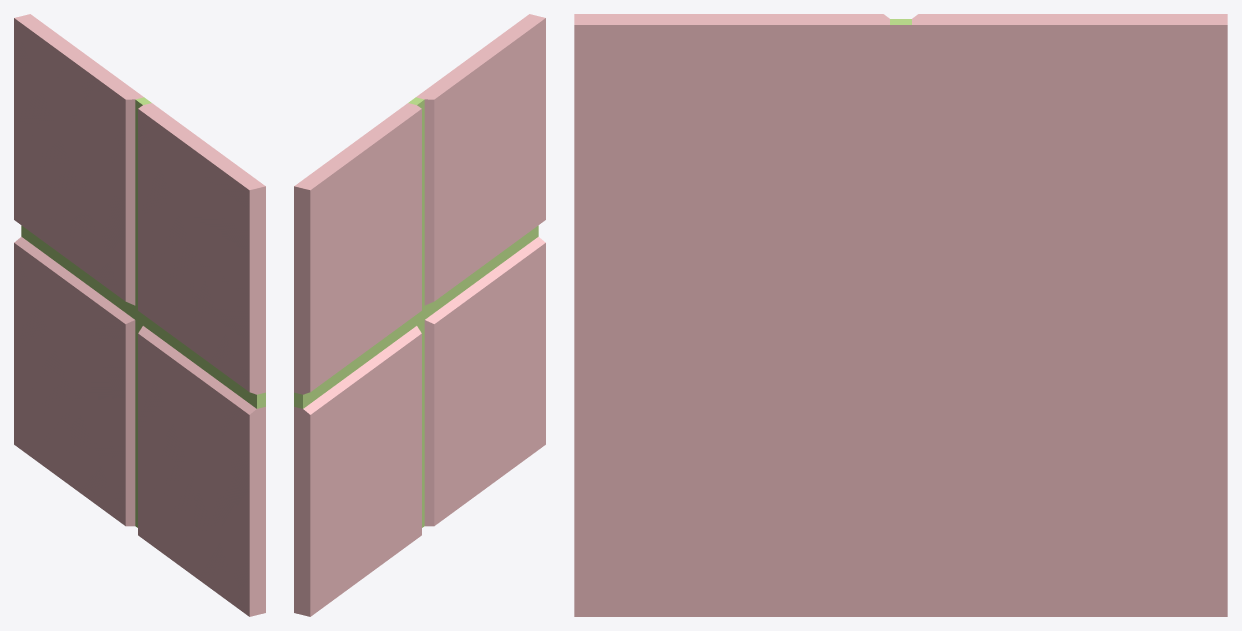
File: Basic Wall.fbx
The picture shows the model from 3 angles, left to right: view 1: azimuth 30°, elevation 25°; view 2: azimuth 150°, elevation 25°; view 3: azimuth 270°, elevation 25°; orthographic projection. The views are drawn at different scales.
Visible parts, largest first — view 1: Cube; view 2: Cube; view 3: Cube.
Part boxes in pixels (x1,y1,x2,y2): Cube: [14, 14, 265, 616]; Cube: [294, 14, 545, 616]; Cube: [574, 14, 1227, 616].
Bounding box in the file's own units: 20 × 500 × 500.
